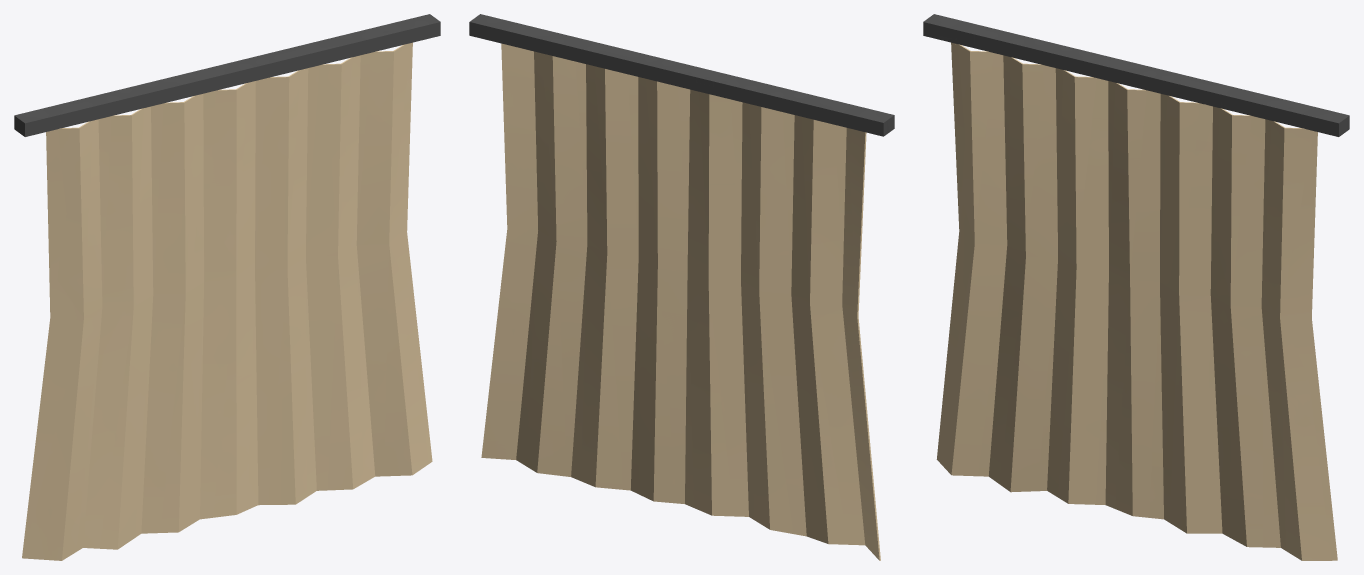
File: Curtain_01_04.fbx
The picture shows the model from 3 angles, left to right: view 1: azimuth 30°, elevation 25°; view 2: azimuth 150°, elevation 25°; view 3: azimuth 330°, elevation 25°; orthographic projection.
Visible parts, largest first — view 1: Curtain_01_04; view 2: Curtain_01_04; view 3: Curtain_01_04.
Boxes of the visible parts, x1,y1,x2,y2 form: Curtain_01_04: [14, 14, 440, 560]; Curtain_01_04: [469, 14, 894, 560]; Curtain_01_04: [923, 14, 1349, 560].
Bounding box in the file's own units: 1.66 × 1.7 × 0.1047.
